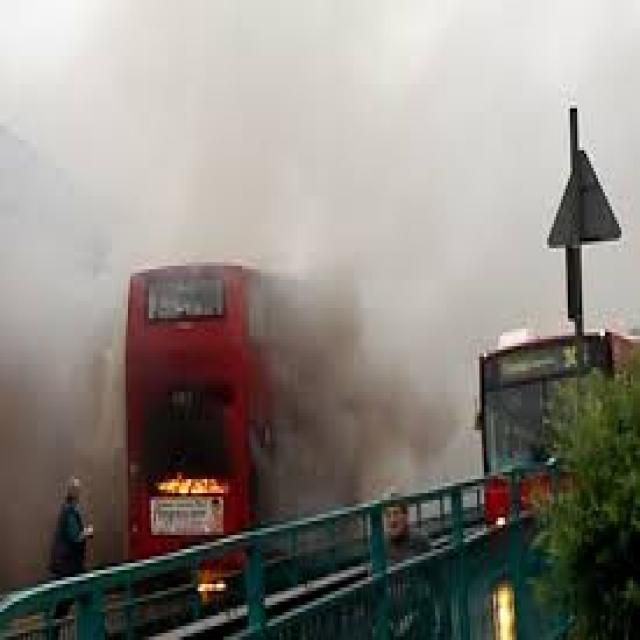smoke: (58, 12, 556, 271), (288, 288, 480, 466), (4, 282, 112, 494)
